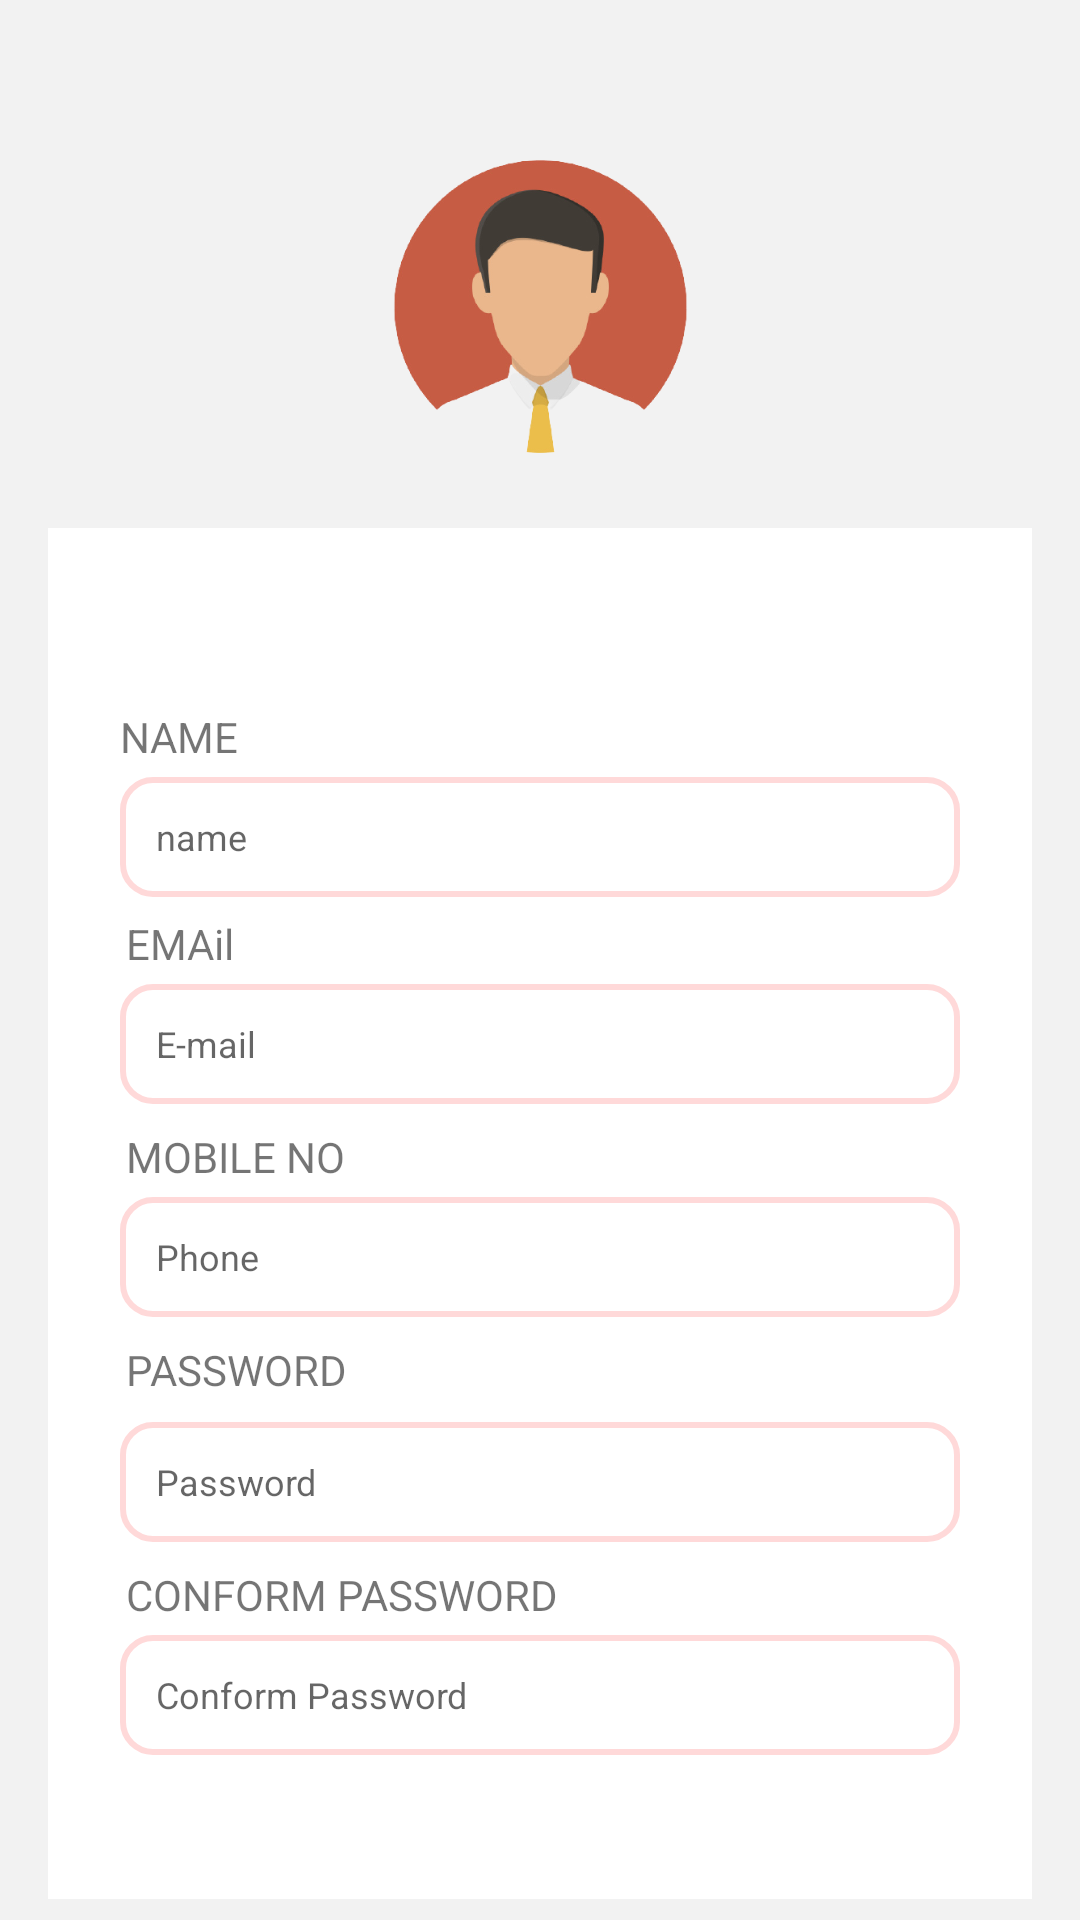

Named icons in this screenshot (1080×1920) and their bounding boxes, (x1=x1, y1=y1, x2=x2, y2=y2):
userprofile: (x1=394, y1=160, x2=687, y2=453)
